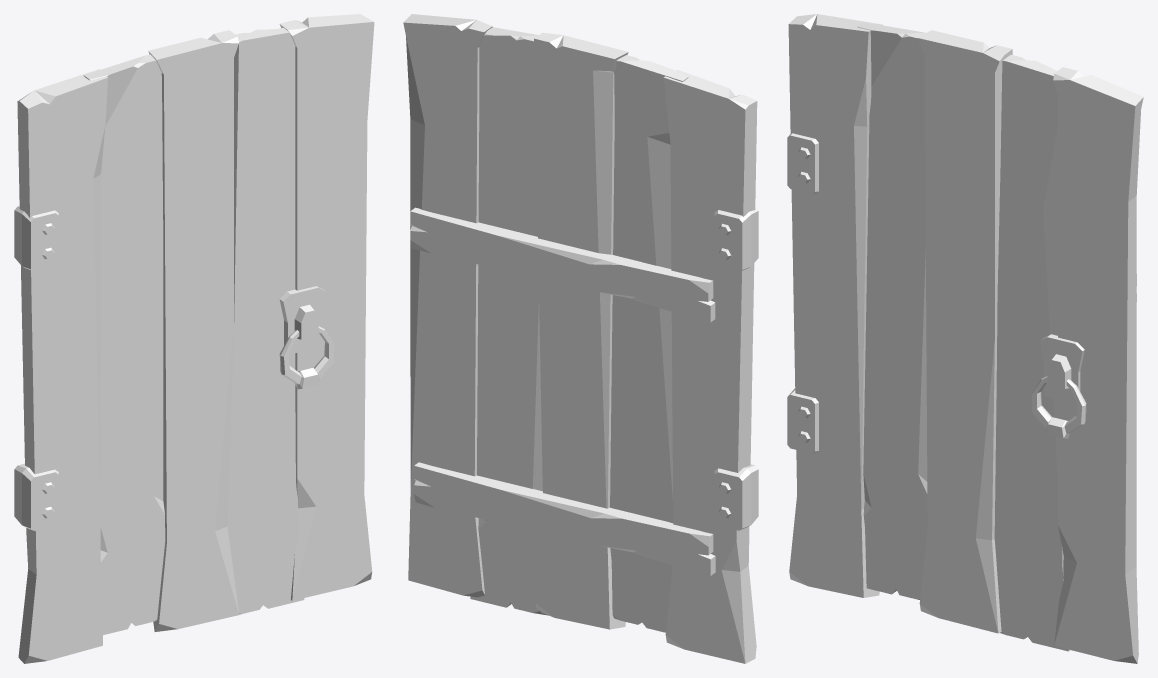
The model's file is Door 2.fbx.
3 renders of one model, left to right at view 1: azimuth 30°, elevation 25°; view 2: azimuth 150°, elevation 25°; view 3: azimuth 330°, elevation 25°, orthographic.
Visible parts, largest first — view 1: Door 2; view 2: Door 2; view 3: Door 2.
Part boxes in pixels (bbox=[...]): Door 2: bbox=[14, 14, 374, 663]; Door 2: bbox=[403, 14, 758, 663]; Door 2: bbox=[787, 14, 1143, 663].
Size of the model in its own units: 439 by 699 by 53.66.
1 material, 1 textured.
